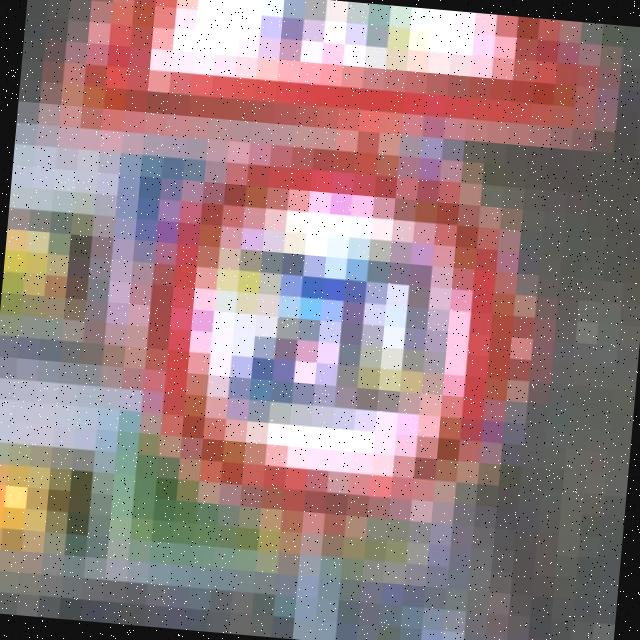Ograniczenie predkosci do 20: (125, 132, 545, 530)
